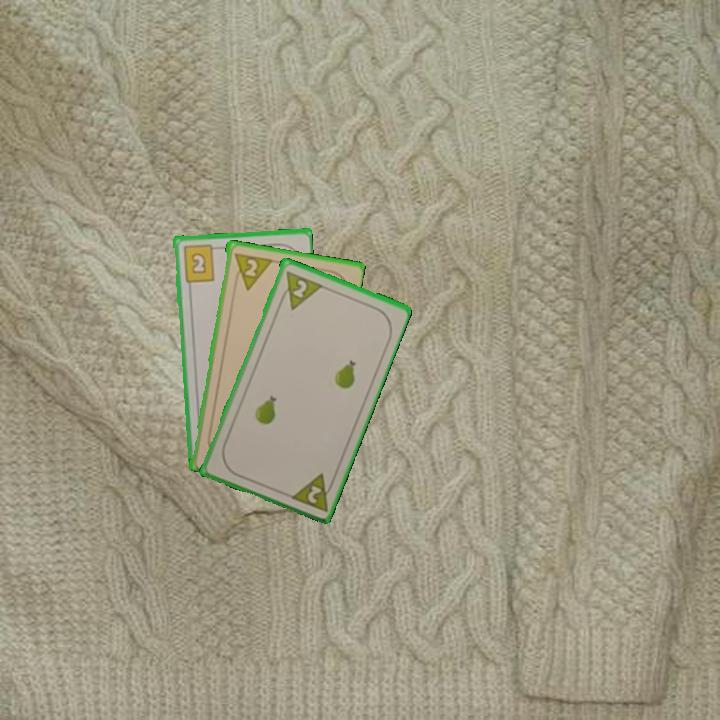2b: (179, 241, 221, 284)
2p: (286, 469, 339, 514), (275, 267, 324, 313), (230, 249, 273, 292)
